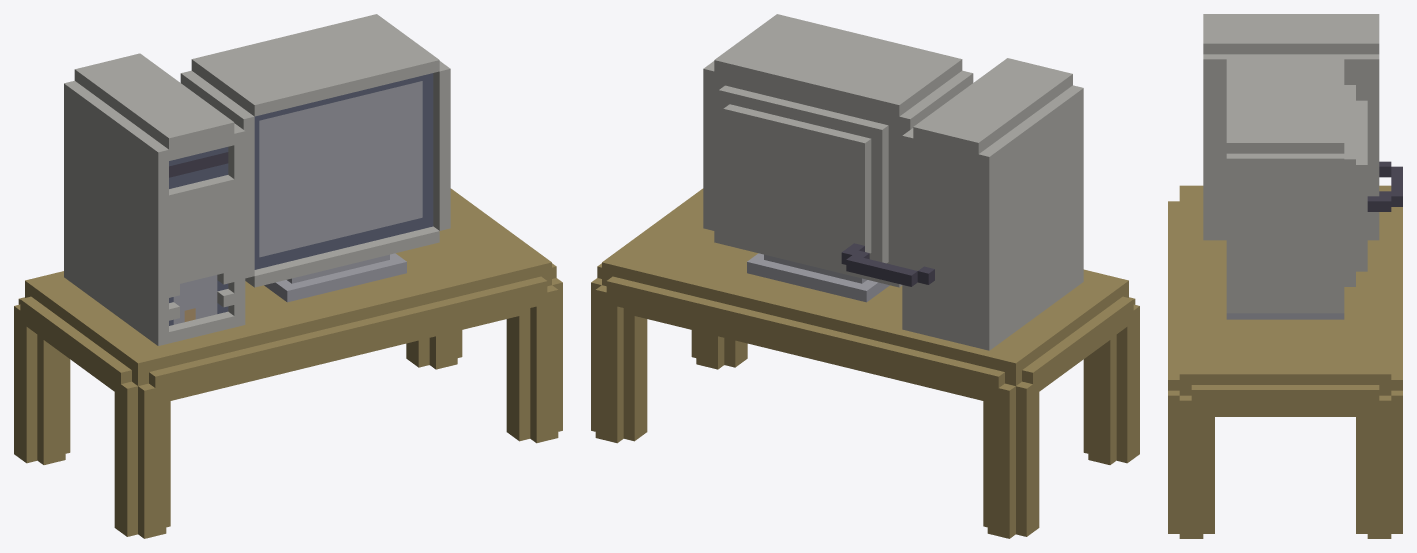
File: PcANdTisch2.fbx
3 renders of one model, left to right at view 1: azimuth 30°, elevation 25°; view 2: azimuth 150°, elevation 25°; view 3: azimuth 270°, elevation 25°, orthographic. The views are drawn at different scales.
Visible parts, largest first — view 1: PcTisch2; view 2: PcTisch2; view 3: PcTisch2.
Boxes of the visible parts, <box> form: PcTisch2: <box>14,14,562,538</box>; PcTisch2: <box>591,14,1139,538</box>; PcTisch2: <box>1168,14,1402,538</box>.
Bounding box in the file's own units: 250 × 206 × 125.
